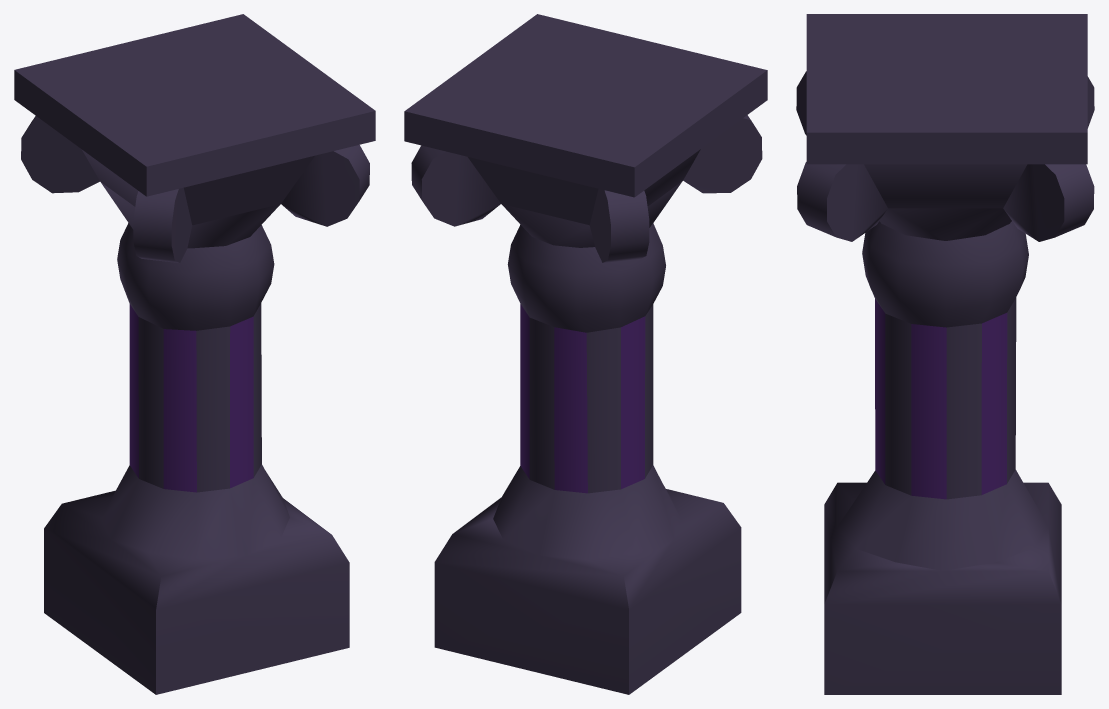
Rendered from SmallPillar.fbx.
3 views of the same model, side by side, from view 1: azimuth 30°, elevation 25°; view 2: azimuth 150°, elevation 25°; view 3: azimuth 270°, elevation 25° (orthographic). The views are drawn at different scales.
Visible parts, largest first — view 1: SmallPillar2; view 2: SmallPillar2; view 3: SmallPillar2.
Part boxes in pixels (box(x1,y1,x2,y2)): SmallPillar2: box(14, 14, 375, 694); SmallPillar2: box(404, 14, 767, 694); SmallPillar2: box(796, 14, 1094, 694).
Bounding box in the file's own units: 207 × 449 × 212.
